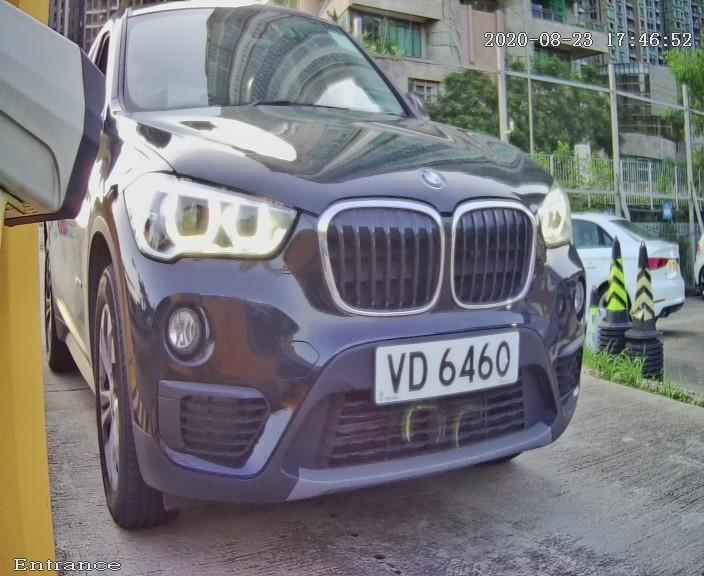Car: (19, 11, 626, 543)
License Plate: (350, 308, 546, 426)
